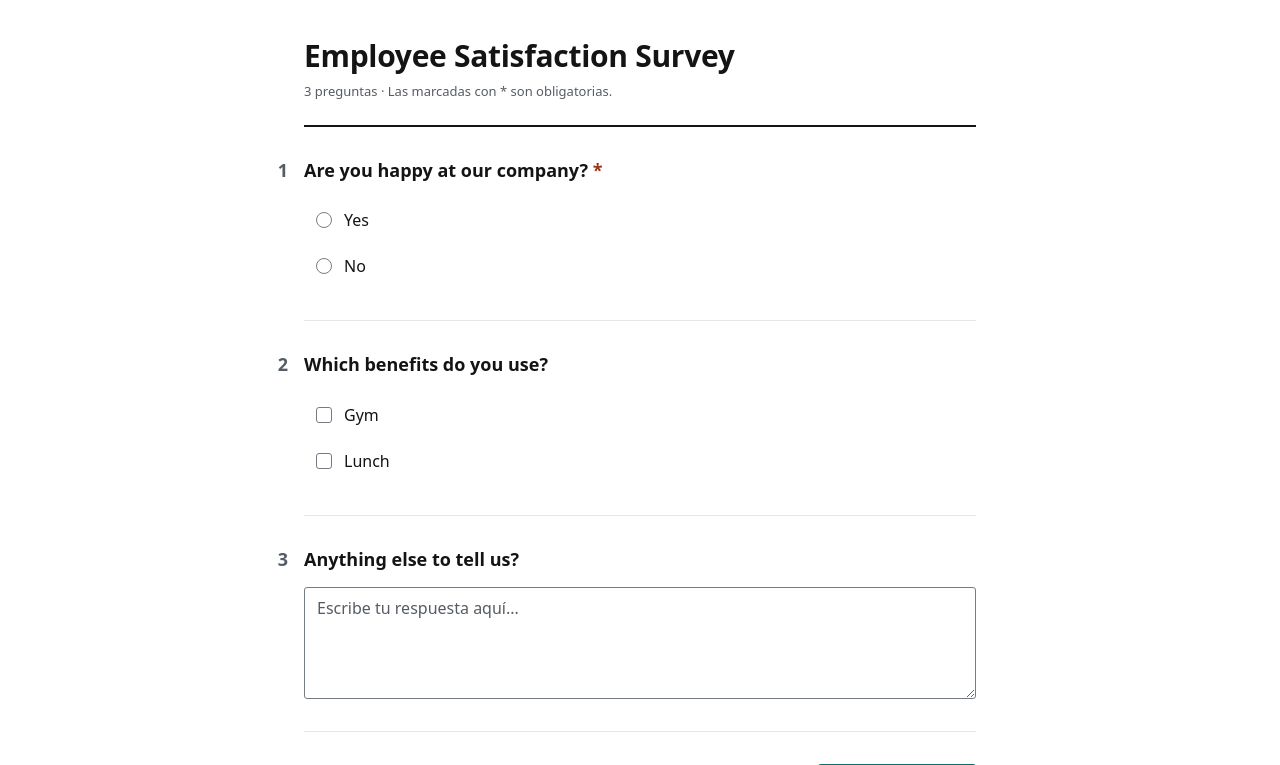
it: SurveyAnsweringPage answered-IP guard (REQ-FE-035, REQ-FE-023, REQ-FE-024) › AC-FE-023-5: a 500 on submit shows its detail in a toast and keeps the form
Click the radio button named "Yes" next to "Yes" at point(324, 220), box [316,212,332,228]
(page scrolled)
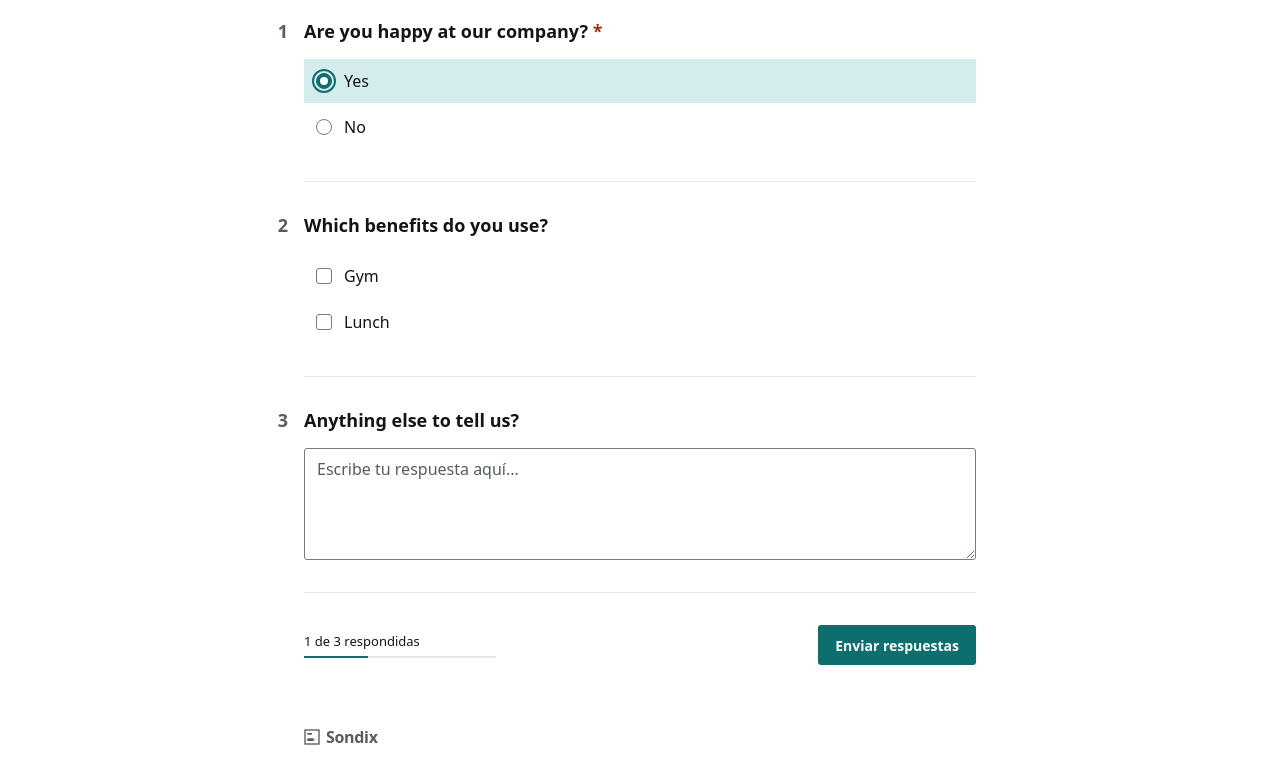
Click the button "Enviar respuestas" at point(897, 645), box [818,625,976,665]
(page scrolled)
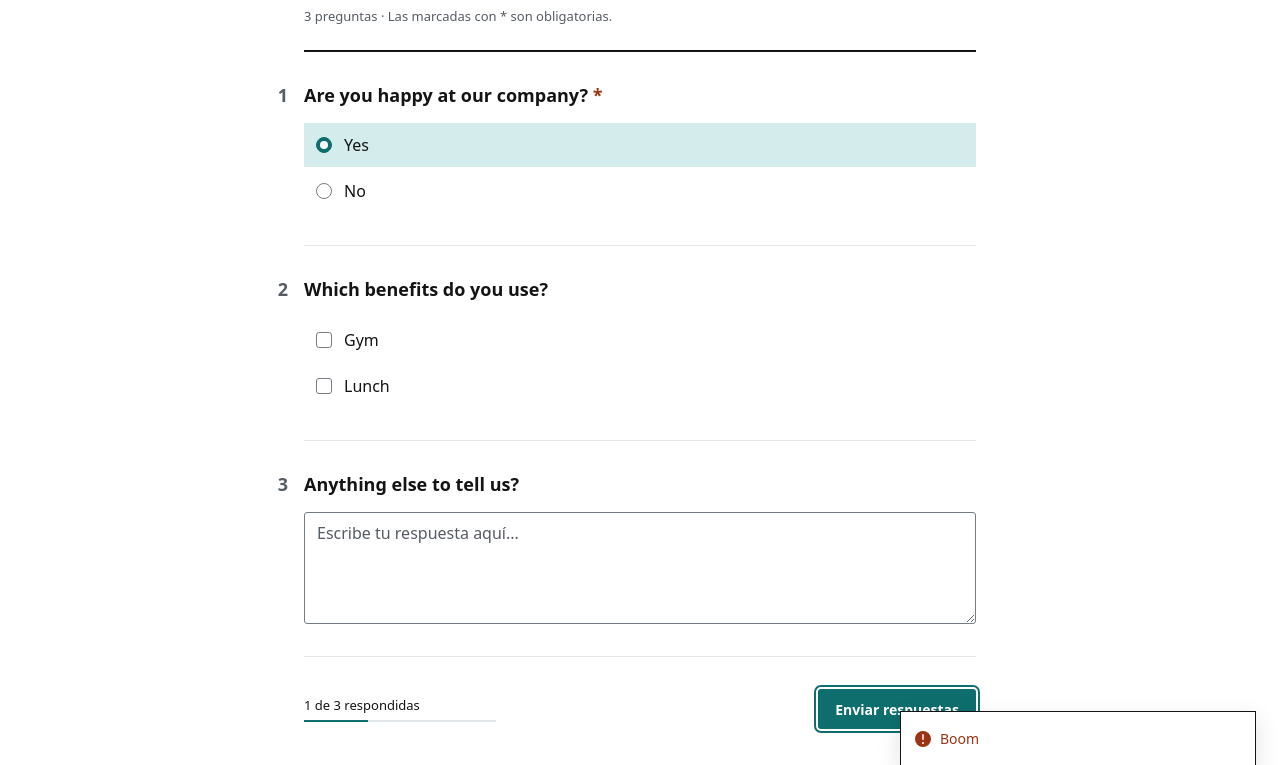
Expected: the form is shown, [304,52,976,729]
Now the text "Boom" is shown, box [940,728,979,749]
